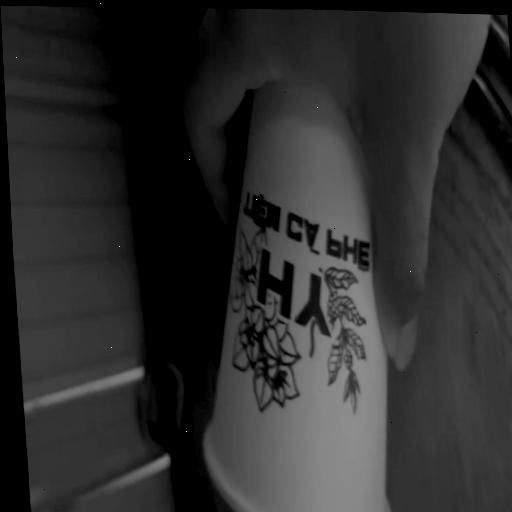Ly_giay: (205, 83, 388, 512)
